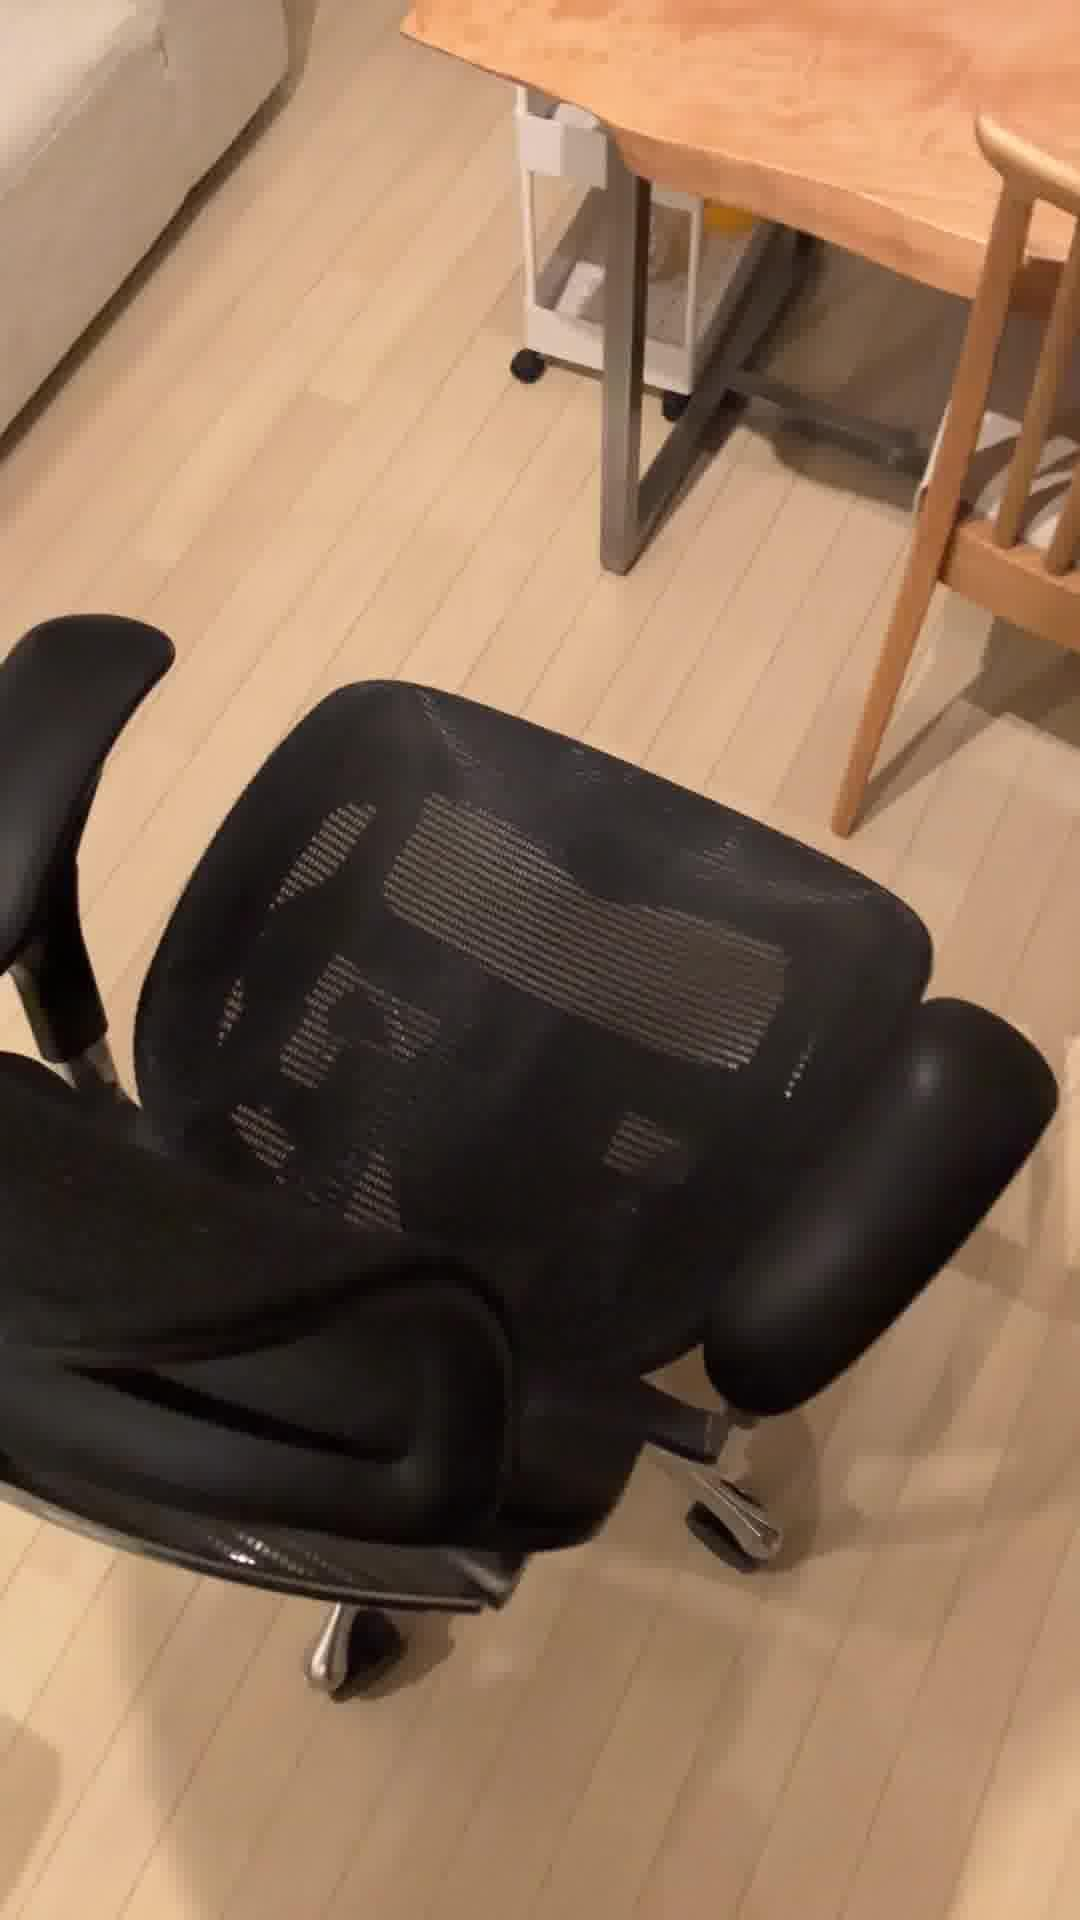okamura-contessa: (0, 607, 1062, 1706)
